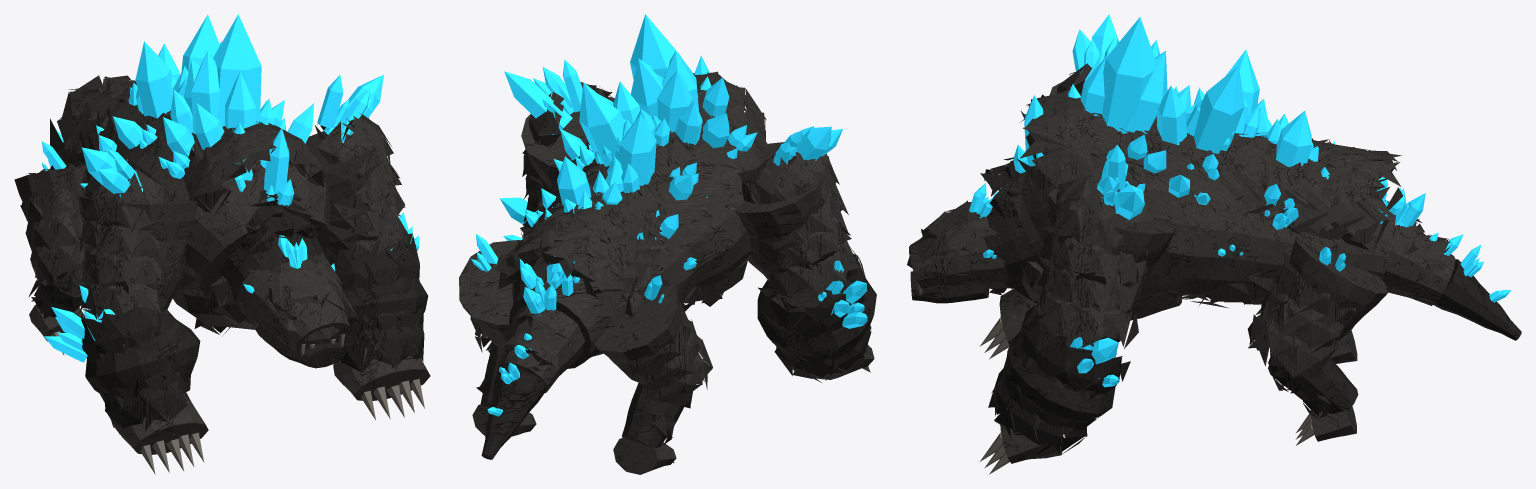
Rendered from beast-crystal-v2.glb.
The picture shows the model from 3 angles, left to right: view 1: azimuth 30°, elevation 25°; view 2: azimuth 150°, elevation 25°; view 3: azimuth 270°, elevation 25°; orthographic projection. The views are drawn at different scales.
Visible parts, largest first — view 1: torso_mesh, back_crystals_mesh, fore_r_upper_mesh, fore_r_lower_mesh, fore_l_upper_mesh, fore_l_lower_mesh, head_mesh, hind_r_upper_mesh, neck_mesh, fore_l_paw_mesh, fore_l_shoulder_crystals_mesh, fore_r_paw_mesh (+8 smaller); view 2: torso_mesh, back_crystals_mesh, fore_r_upper_mesh, hind_r_upper_mesh, fore_r_lower_mesh, tail1_mesh, fore_l_upper_mesh, hind_l_upper_mesh, tail2_mesh, fore_l_shoulder_crystals_mesh, hind_r_lower_mesh, fore_r_shoulder_crystals_mesh (+8 smaller); view 3: torso_mesh, back_crystals_mesh, fore_l_upper_mesh, fore_l_lower_mesh, hind_l_upper_mesh, head_mesh, tail1_mesh, neck_mesh, hind_l_lower_mesh, tail2_mesh, fore_l_shoulder_crystals_mesh, fore_r_shoulder_crystals_mesh (+6 smaller).
Part boxes in pixels (x1,y1,x2,y2): torso_mesh: (50, 75, 331, 336); back_crystals_mesh: (80, 14, 314, 206); fore_r_upper_mesh: (77, 168, 197, 321); fore_r_lower_mesh: (78, 302, 200, 434); fore_l_upper_mesh: (305, 113, 408, 265); fore_l_lower_mesh: (329, 233, 428, 372); head_mesh: (236, 252, 357, 352); hind_r_upper_mesh: (14, 166, 88, 288); neck_mesh: (219, 190, 324, 303); fore_l_paw_mesh: (333, 347, 430, 400); fore_l_shoulder_crystals_mesh: (317, 74, 383, 142); fore_r_paw_mesh: (115, 392, 208, 454); torso_mesh: (495, 71, 768, 368); back_crystals_mesh: (519, 14, 757, 296); fore_r_upper_mesh: (735, 142, 859, 301); hind_r_upper_mesh: (594, 273, 712, 406); fore_r_lower_mesh: (757, 247, 876, 382); tail1_mesh: (497, 305, 585, 392); fore_l_upper_mesh: (521, 81, 614, 228); hind_l_upper_mesh: (459, 240, 520, 352); tail2_mesh: (481, 366, 546, 459); fore_l_shoulder_crystals_mesh: (504, 59, 582, 134); hind_r_lower_mesh: (622, 383, 692, 447); fore_r_shoulder_crystals_mesh: (773, 126, 842, 165); torso_mesh: (1012, 89, 1402, 320); back_crystals_mesh: (1013, 17, 1390, 256); fore_l_upper_mesh: (1035, 172, 1176, 348); fore_l_lower_mesh: (988, 300, 1130, 454); hind_l_upper_mesh: (1247, 237, 1387, 378); head_mesh: (907, 200, 1009, 290); tail1_mesh: (1382, 219, 1455, 305); neck_mesh: (977, 151, 1044, 288); hind_l_lower_mesh: (1268, 351, 1358, 420); tail2_mesh: (1433, 259, 1521, 340); fore_l_shoulder_crystals_mesh: (1097, 145, 1145, 222); fore_r_shoulder_crystals_mesh: (1072, 14, 1118, 73).
Bounding box in the file's own units: 7.81 × 7.56 × 10.62.
5 materials, 2 textured.
